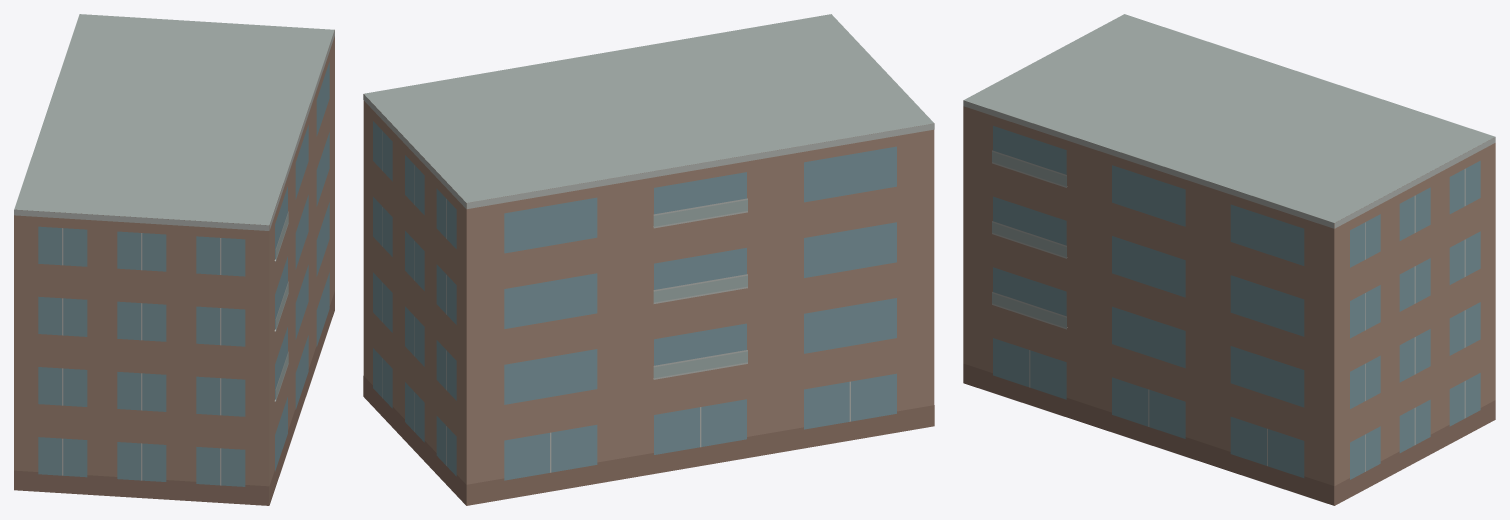
The model's file is survey-upis-32712348.glb.
The picture shows the model from 3 angles, left to right: view 1: azimuth 30°, elevation 25°; view 2: azimuth 150°, elevation 25°; view 3: azimuth 270°, elevation 25°; orthographic projection. The views are drawn at different scales.
Visible parts, largest first — view 1: survey-upis-32712348.tmp; view 2: survey-upis-32712348.tmp; view 3: survey-upis-32712348.tmp.
Boxes of the visible parts, x1,y1,x2,y2 form: survey-upis-32712348.tmp: (14, 14, 334, 505); survey-upis-32712348.tmp: (363, 14, 934, 505); survey-upis-32712348.tmp: (963, 14, 1495, 505).
Bounding box in the file's own units: 18.72 × 11.81 × 20.15.
